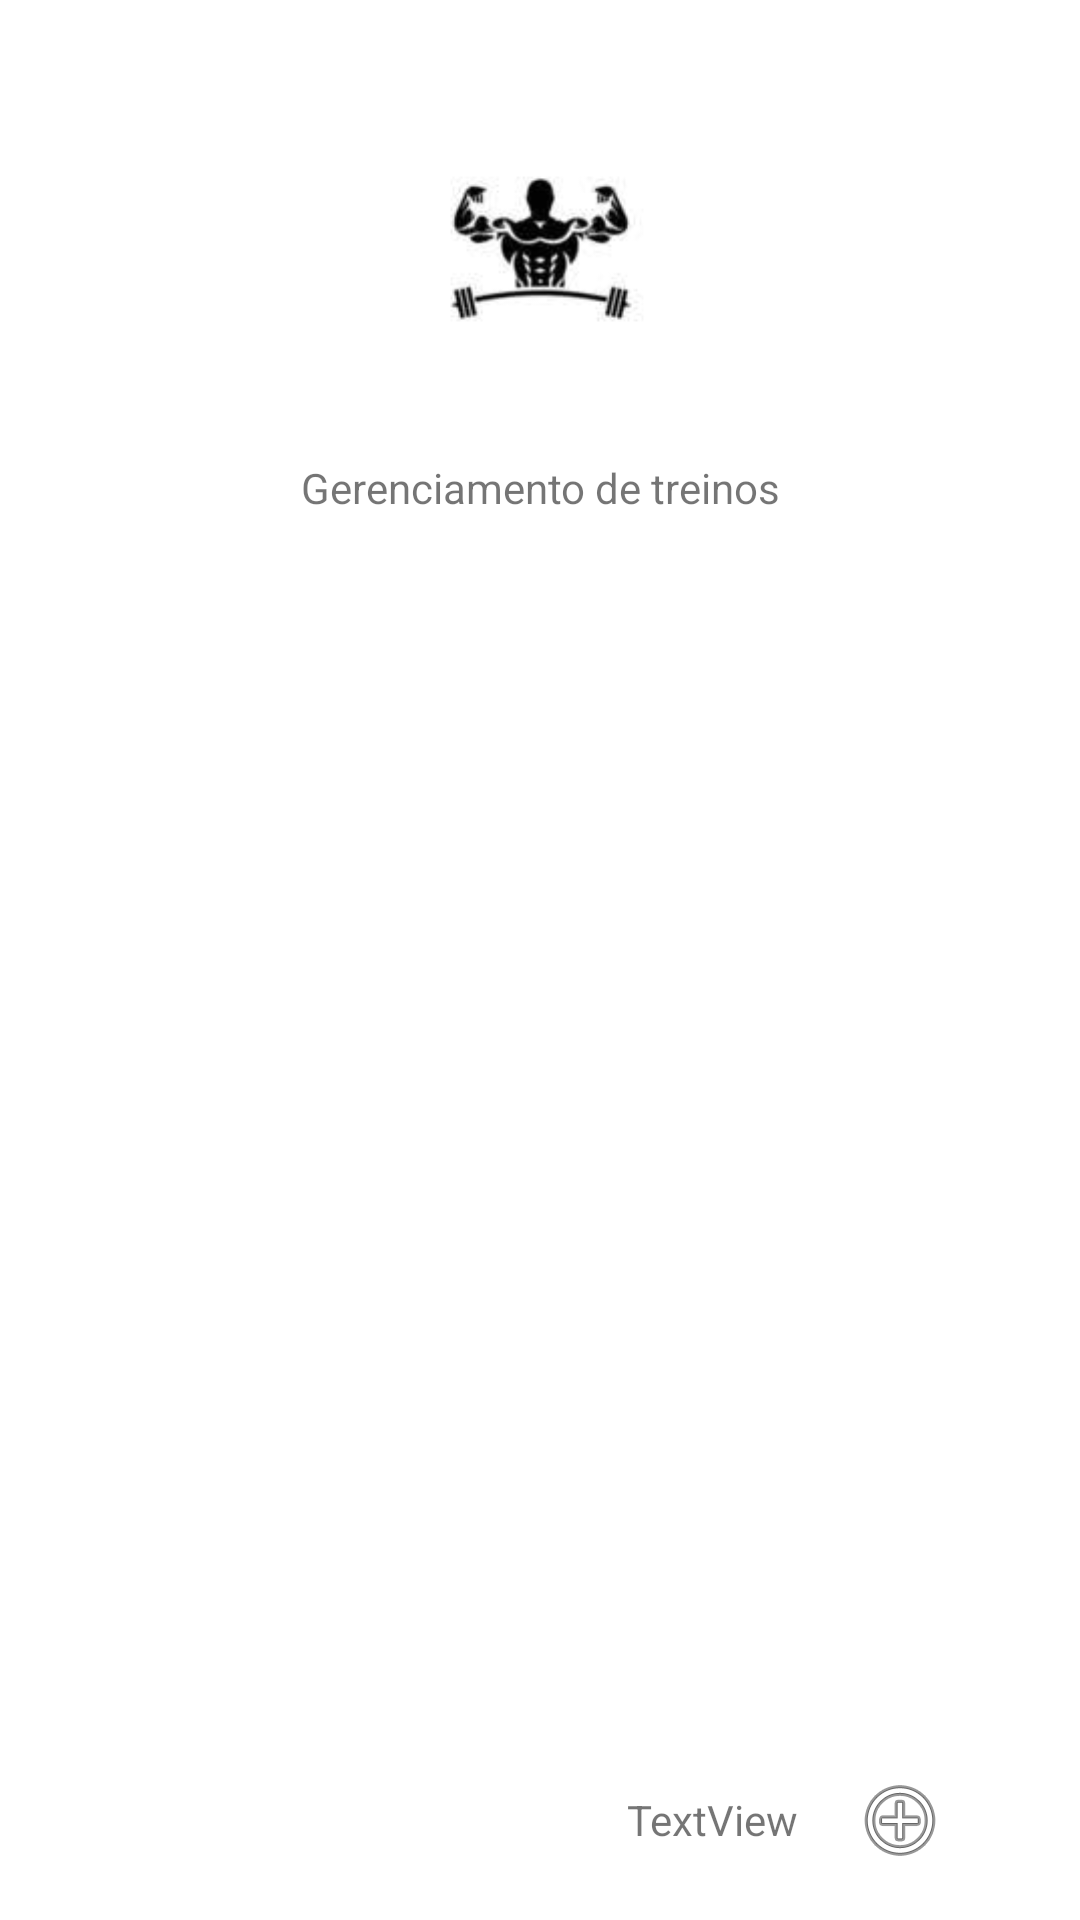

Named icons in this screenshot (1080*1920) and their centers, (x,y):
add: (900,1820)
